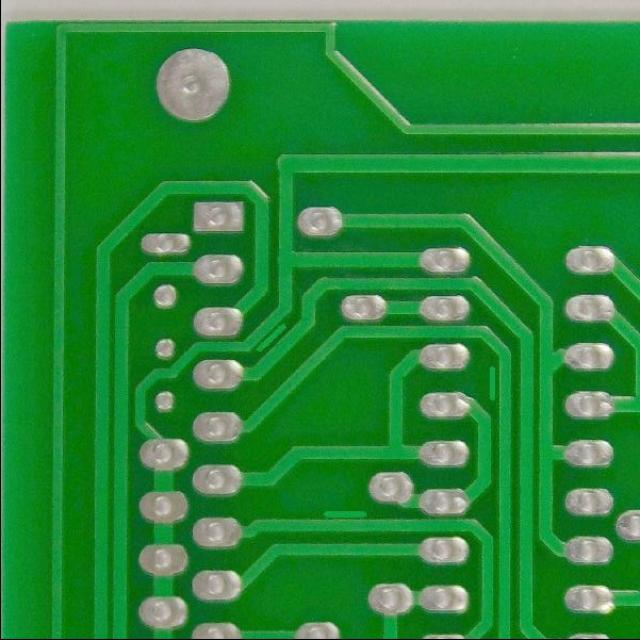spurious_copper: (246, 319, 290, 360), (479, 360, 504, 407), (316, 503, 368, 524)
